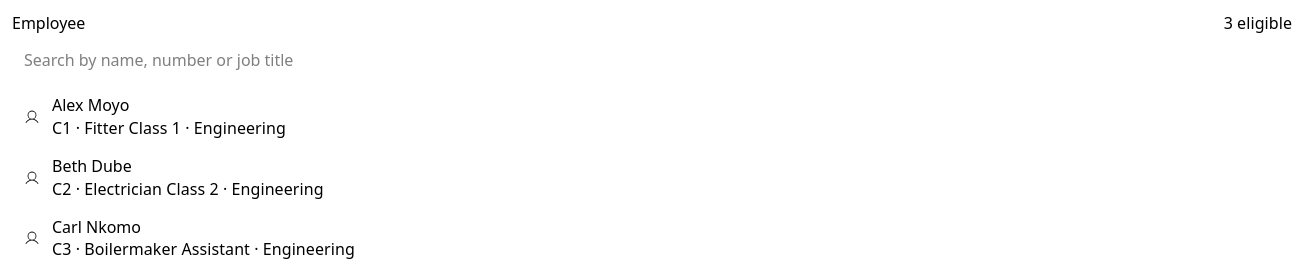
Test: EmployeePicker › narrows as you type, by name, number or job title
Type "boiler" into the dropdown labelled "Employee" at (652, 60), box left=12, top=40, right=1292, bottom=80
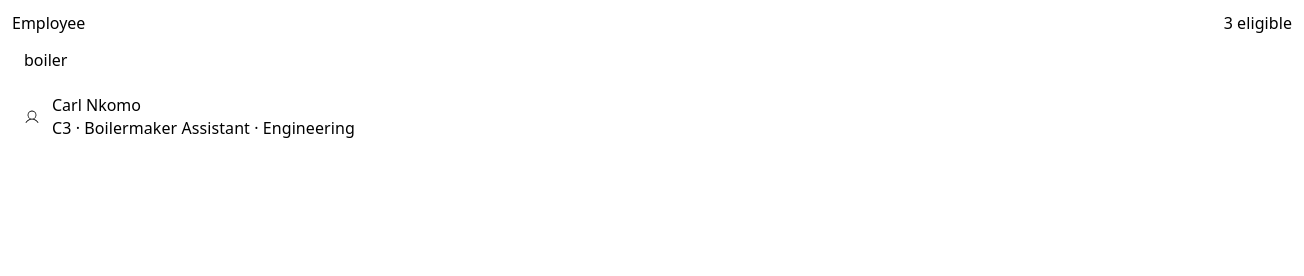
Expected: the option shows "Carl Nkomo", left=24, top=94, right=355, bottom=139
Now the number of options is 1, box left=24, top=94, right=355, bottom=139
